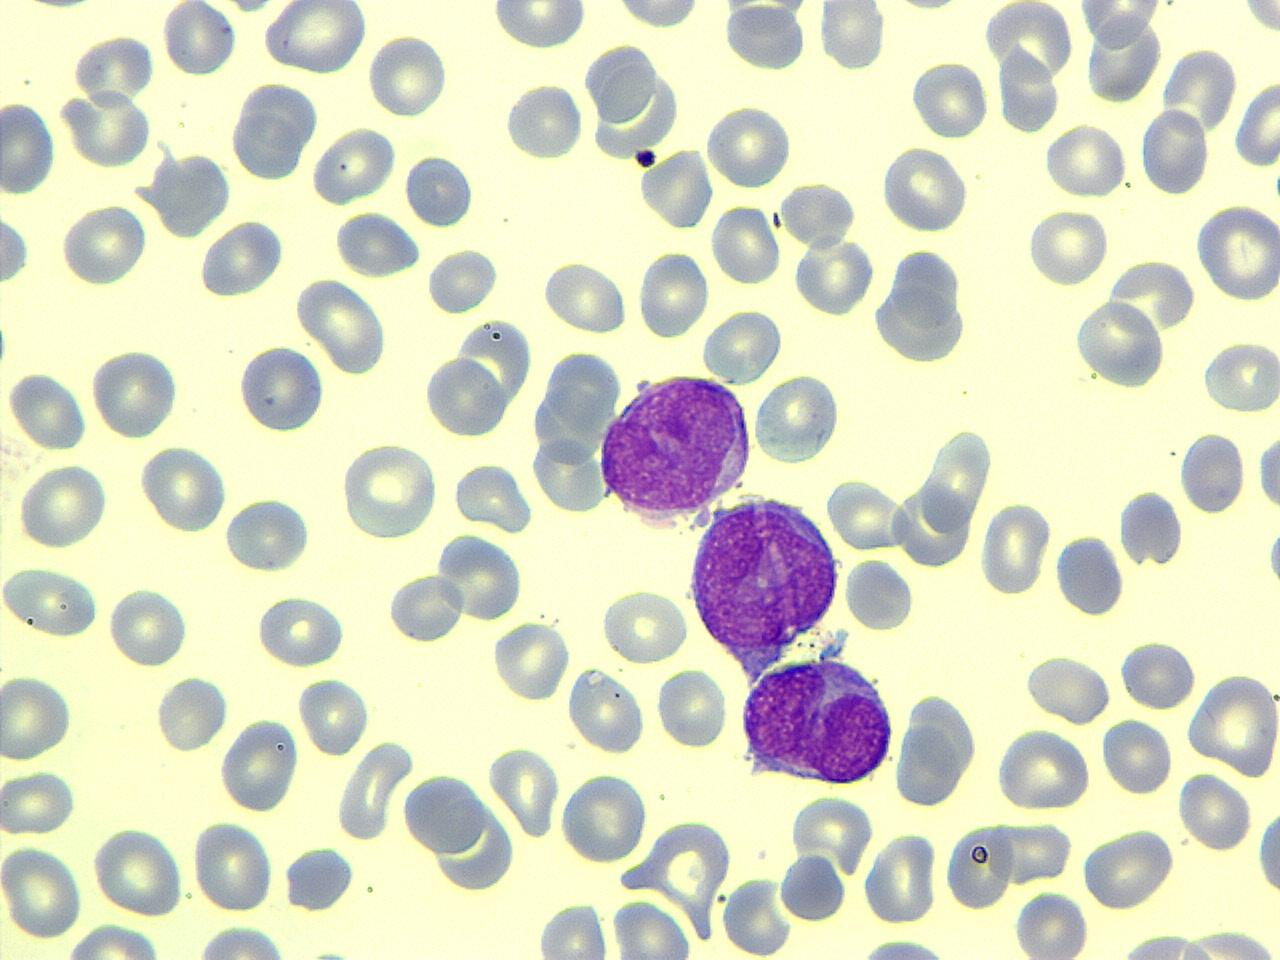Platelets: (1052, 530, 1124, 613), (1116, 486, 1184, 566), (1253, 801, 1280, 901), (1254, 427, 1280, 518), (1265, 528, 1280, 586), (0, 317, 14, 370), (308, 943, 349, 960), (634, 146, 658, 170)
RBC: (870, 248, 970, 368), (340, 439, 438, 541), (1186, 670, 1280, 776), (295, 276, 390, 374), (1194, 200, 1280, 305), (1072, 296, 1168, 390), (558, 768, 650, 865), (88, 345, 181, 439), (16, 458, 110, 552), (90, 824, 185, 916), (752, 370, 843, 467), (0, 840, 86, 942), (992, 726, 1093, 812), (436, 529, 527, 624), (218, 713, 301, 815), (880, 142, 970, 236), (139, 441, 228, 535), (190, 816, 274, 916), (238, 341, 326, 436), (1078, 825, 1176, 910), (703, 101, 793, 191), (59, 199, 149, 288), (893, 471, 973, 570), (789, 789, 876, 878), (977, 497, 1053, 598), (864, 828, 940, 928), (421, 352, 508, 440), (63, 87, 153, 171), (599, 584, 691, 666), (266, 0, 369, 74), (224, 492, 314, 575), (1, 562, 99, 638), (566, 663, 646, 756), (488, 741, 562, 841), (309, 122, 398, 206), (106, 582, 189, 671), (255, 590, 348, 670), (197, 217, 284, 301), (366, 31, 449, 120), (1161, 43, 1239, 137), (491, 616, 572, 705), (398, 770, 482, 856), (0, 670, 75, 765), (792, 234, 876, 318), (826, 472, 912, 554), (636, 246, 711, 340), (1043, 120, 1129, 201), (503, 79, 586, 161), (541, 257, 628, 336), (1023, 649, 1113, 725), (530, 434, 612, 516), (5, 368, 87, 451), (1026, 206, 1108, 288), (910, 56, 990, 141), (701, 305, 784, 384), (296, 672, 372, 758), (710, 200, 784, 287), (72, 32, 157, 108), (452, 458, 535, 534), (1140, 105, 1210, 196), (1054, 531, 1128, 618), (944, 820, 1013, 913), (656, 663, 728, 751), (1176, 768, 1252, 852), (1100, 713, 1174, 798), (1200, 336, 1278, 416), (720, 872, 794, 956), (640, 145, 714, 230), (722, 2, 808, 73), (996, 43, 1062, 135), (842, 554, 917, 634), (1118, 636, 1198, 712), (154, 672, 228, 754), (333, 209, 421, 277), (386, 569, 465, 645), (779, 178, 860, 253), (1178, 428, 1246, 516), (160, 0, 237, 78), (230, 107, 309, 181), (1012, 886, 1090, 960), (402, 153, 476, 230), (1118, 485, 1186, 566), (1, 98, 57, 196), (1, 765, 79, 836), (280, 841, 357, 911), (424, 245, 498, 315), (610, 897, 692, 959), (818, 0, 888, 72), (491, 0, 588, 51), (778, 852, 846, 925), (1232, 75, 1280, 170), (1076, 1, 1166, 52), (535, 899, 611, 960), (61, 920, 168, 958), (191, 922, 293, 960), (1186, 925, 1280, 960), (611, 0, 705, 32), (1, 208, 31, 290)
WBC: (686, 488, 846, 662), (595, 366, 753, 526), (730, 645, 896, 788), (575, 38, 689, 162), (869, 242, 975, 367), (892, 689, 980, 812), (399, 766, 493, 878), (1118, 483, 1186, 568), (282, 842, 356, 914), (1254, 788, 1280, 907), (852, 936, 958, 960)
